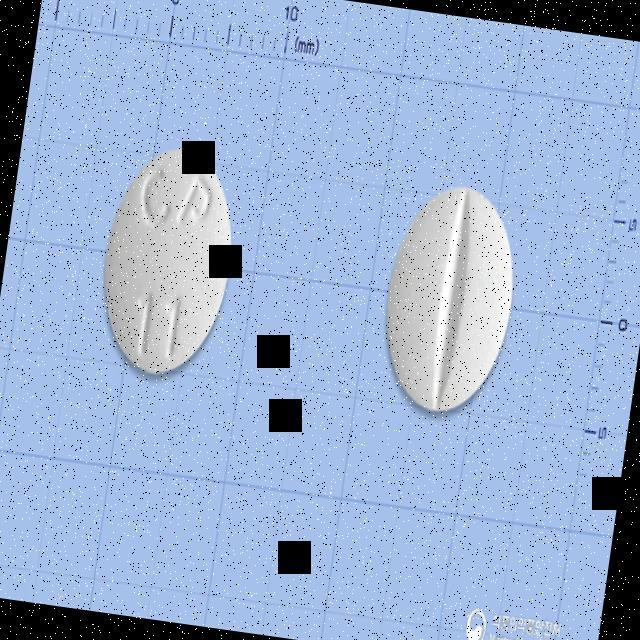Prodin Tab: (89, 134, 249, 384)
